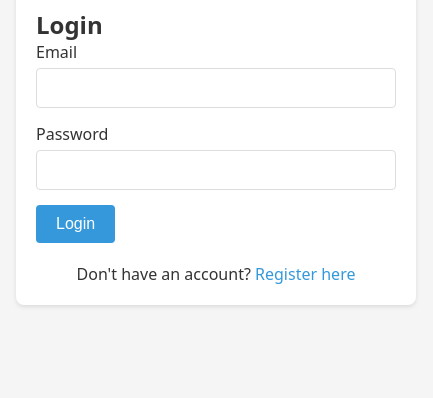
Test case: Login Component › shows error message on login failure
Type "wrong@example.com" into the field labelled "Email".
click(216, 88); type("wrong@example.com")  # box [36,68,396,108]
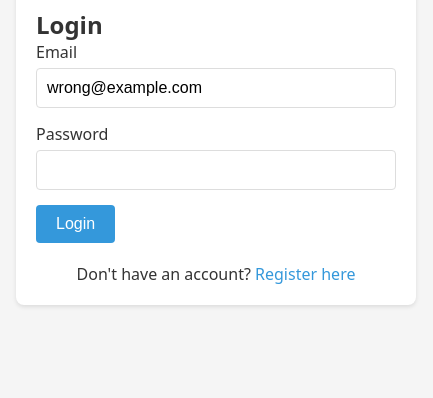
Type "wrongpass" into the password field labelled "Password".
click(216, 170); type("wrongpass")  # box [36,150,396,190]
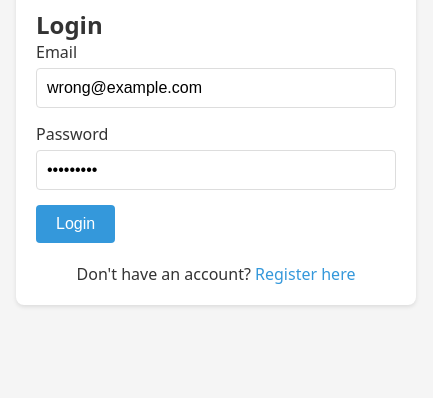
Click the button "Login".
click(76, 224)  # box [36,205,115,243]
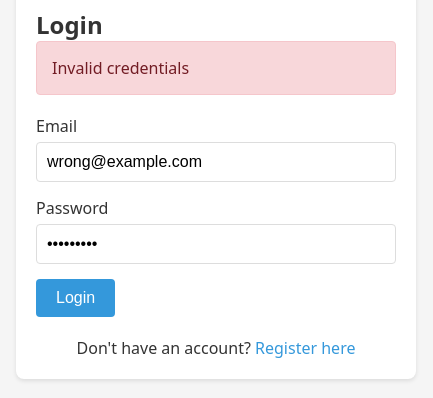
Expected: the text "Invalid credentials" is shown, [36,41,396,95]
